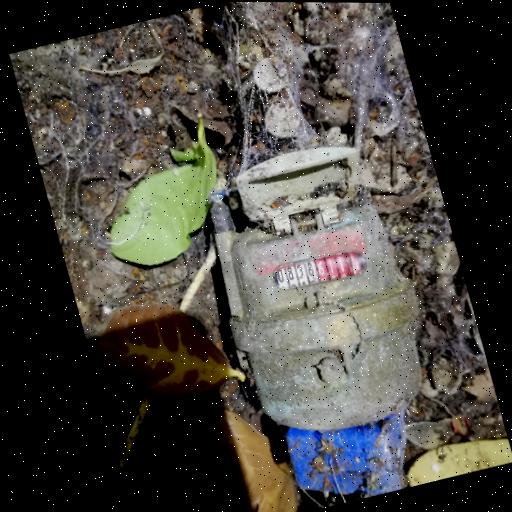0: (274, 263, 290, 290)
1: (325, 255, 339, 279), (336, 253, 350, 277)
3: (293, 261, 309, 286)
5: (349, 250, 365, 275)
6: (314, 257, 329, 282)
8: (283, 263, 299, 288), (304, 259, 319, 283)
border_water_meter_number: (269, 244, 370, 296)
